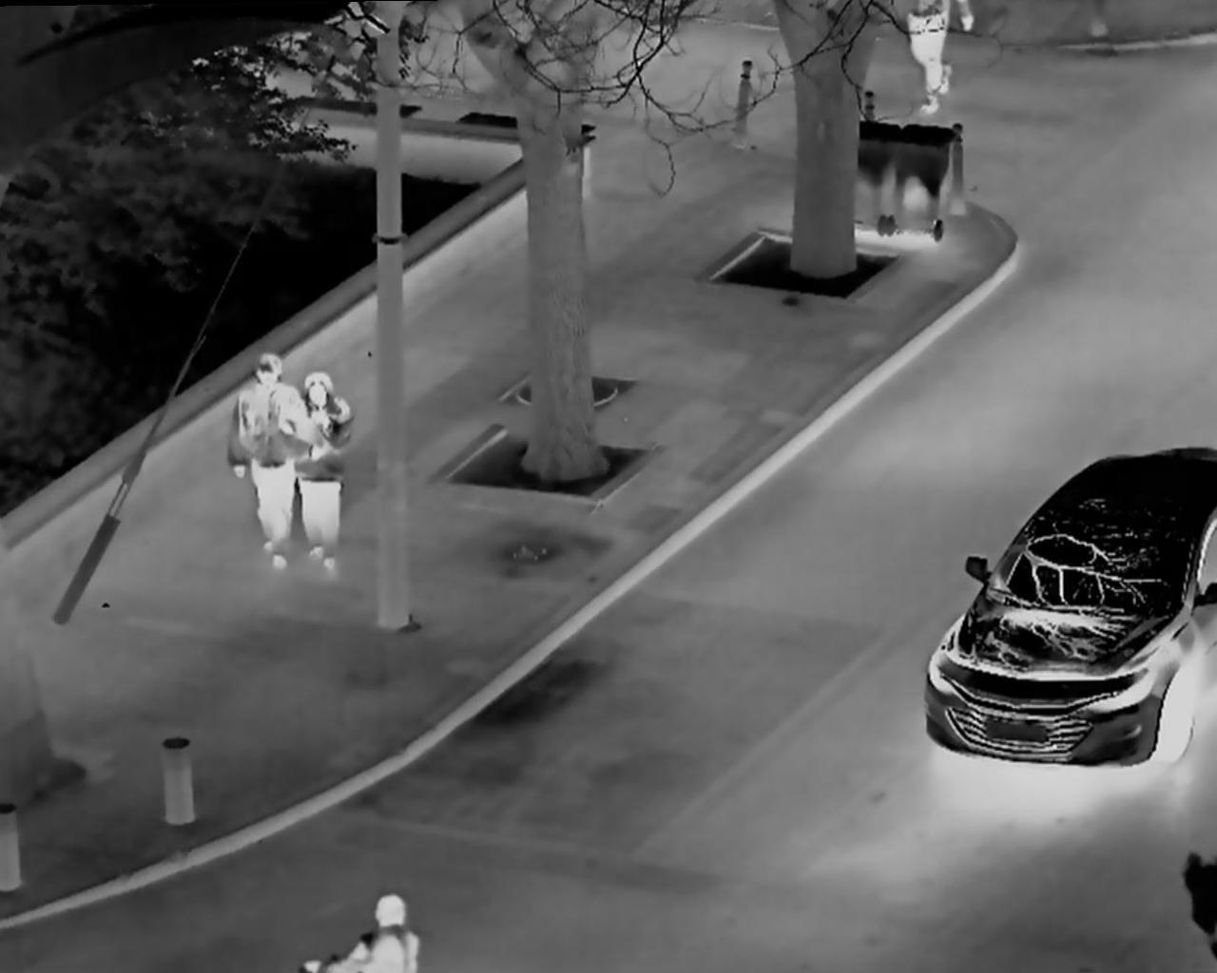person: (231, 336, 297, 563), (293, 364, 355, 588), (300, 864, 429, 970), (899, 2, 959, 122)
